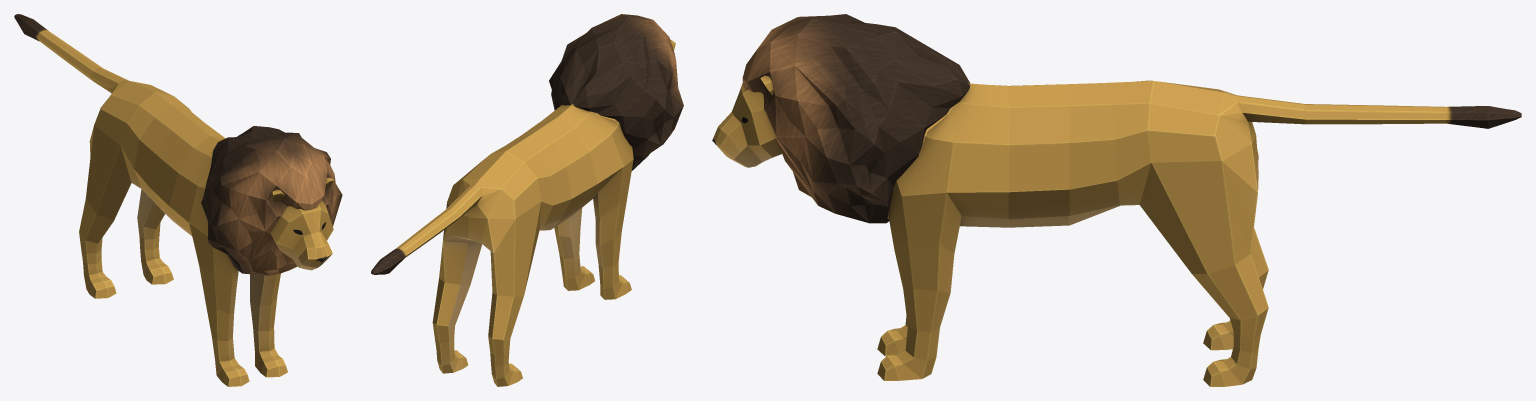
File: Lion.gltf
3 views of the same model, side by side, from view 1: azimuth 30°, elevation 25°; view 2: azimuth 150°, elevation 25°; view 3: azimuth 270°, elevation 25° (orthographic). The views are drawn at different scales.
Parts seen in each view (by area): view 1: node-0; view 2: node-0; view 3: node-0.
Part boxes in pixels (bbox=[...]): node-0: bbox=[14, 14, 342, 386]; node-0: bbox=[371, 14, 683, 386]; node-0: bbox=[712, 14, 1521, 386].
Bounding box in the file's own units: 3.4 × 6.76 × 14.46.
Materials: 1 (1 with a texture image).
